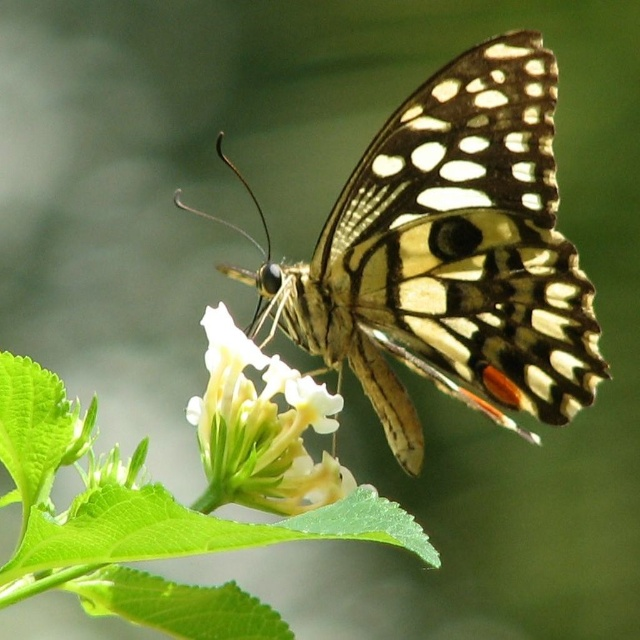Butterfly: (172, 25, 614, 481)
